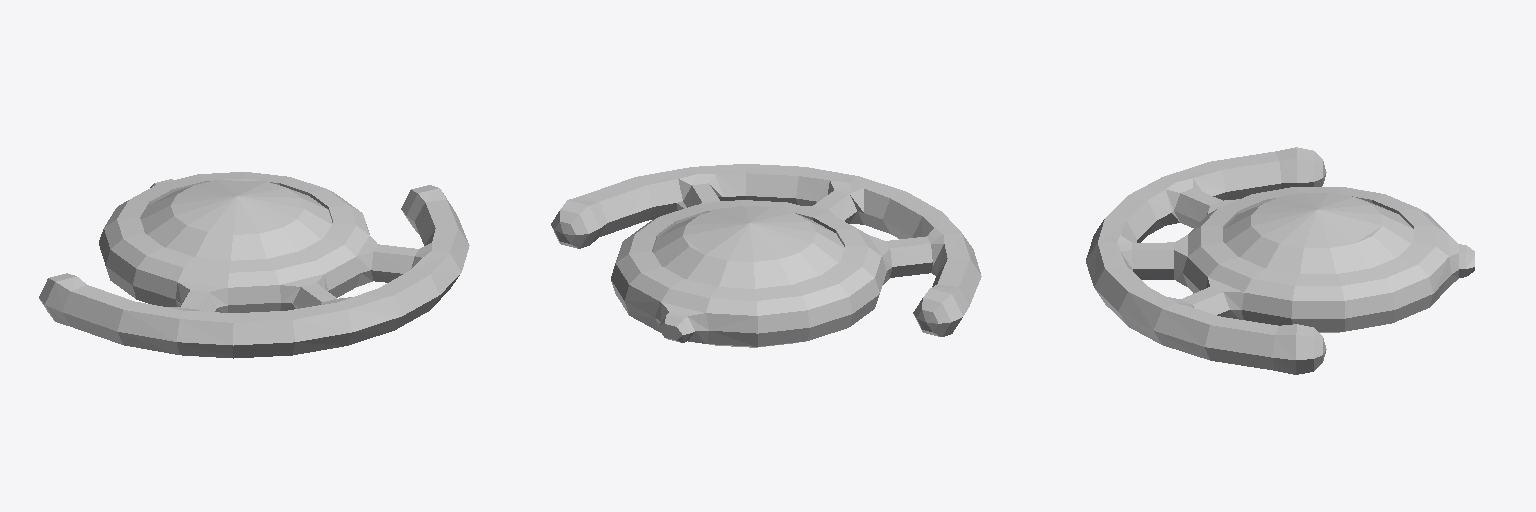
The model's file is BR_Unown-Shiny44.obj.
The picture shows the model from 3 angles: view 1: azimuth 30°, elevation 25°; view 2: azimuth 150°, elevation 25°; view 3: azimuth 270°, elevation 25°; orthographic projection.
Parts seen in each view (by area): view 1: unknown_u; view 2: unknown_u; view 3: unknown_u.
Part boxes in pixels (x1,y1,x2,y2): unknown_u: (39,172,469,358); unknown_u: (551,164,981,347); unknown_u: (1086,147,1474,374).
Bounding box in the file's own units: 3.95 × 0.8603 × 3.27.